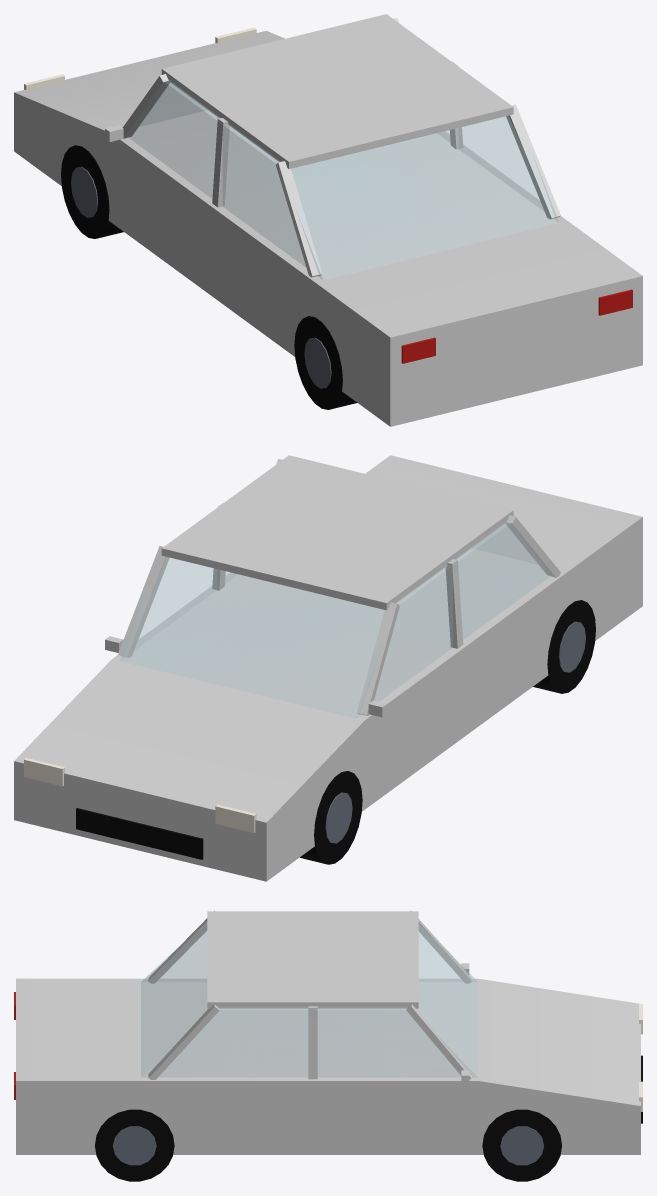
Rendered from vehicle.car.saloon_white.glb.
3 renders of one model, top to bottom at view 1: azimuth 30°, elevation 25°; view 2: azimuth 150°, elevation 25°; view 3: azimuth 270°, elevation 25°, orthographic. The views are drawn at different scales.
Visible parts, largest first — view 1: main__car_white, main__glass, main__rubber, main__steel_painted, main__hazard_red, main__light_emitter; view 2: main__car_white, main__glass, main__rubber, main__plastic_black, main__steel_painted, main__light_emitter; view 3: main__car_white, main__glass, main__rubber, main__steel_painted.
Boxes of the visible parts, x1,y1,x2,y2 form: main__car_white: (14, 14, 642, 426); main__glass: (129, 80, 558, 279); main__rubber: (61, 145, 357, 409); main__steel_painted: (71, 166, 331, 388); main__hazard_red: (401, 289, 632, 363); main__light_emitter: (24, 27, 256, 89); main__car_white: (14, 455, 642, 881); main__glass: (120, 521, 549, 718); main__rubber: (300, 600, 595, 864); main__plastic_black: (76, 808, 203, 859); main__steel_painted: (325, 621, 585, 843); main__light_emitter: (24, 758, 256, 832); main__car_white: (16, 910, 640, 1154); main__glass: (141, 924, 478, 1077); main__rubber: (95, 1109, 561, 1181); main__steel_painted: (113, 1126, 543, 1165).
Bounding box in the file's own units: 2 × 1.44 × 4.73.
